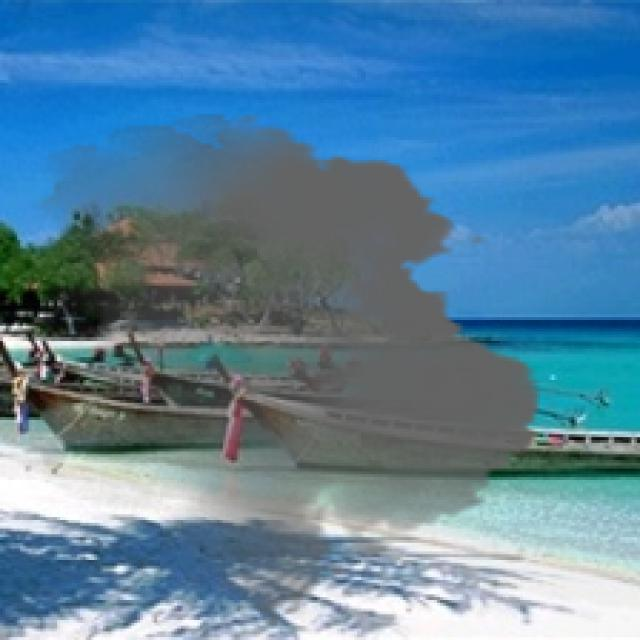smoke: (14, 114, 560, 629)
